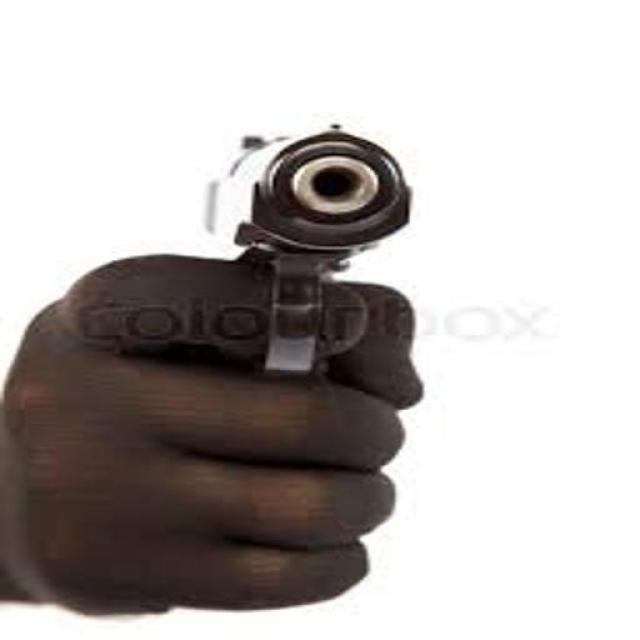pistol: (202, 117, 430, 390)
